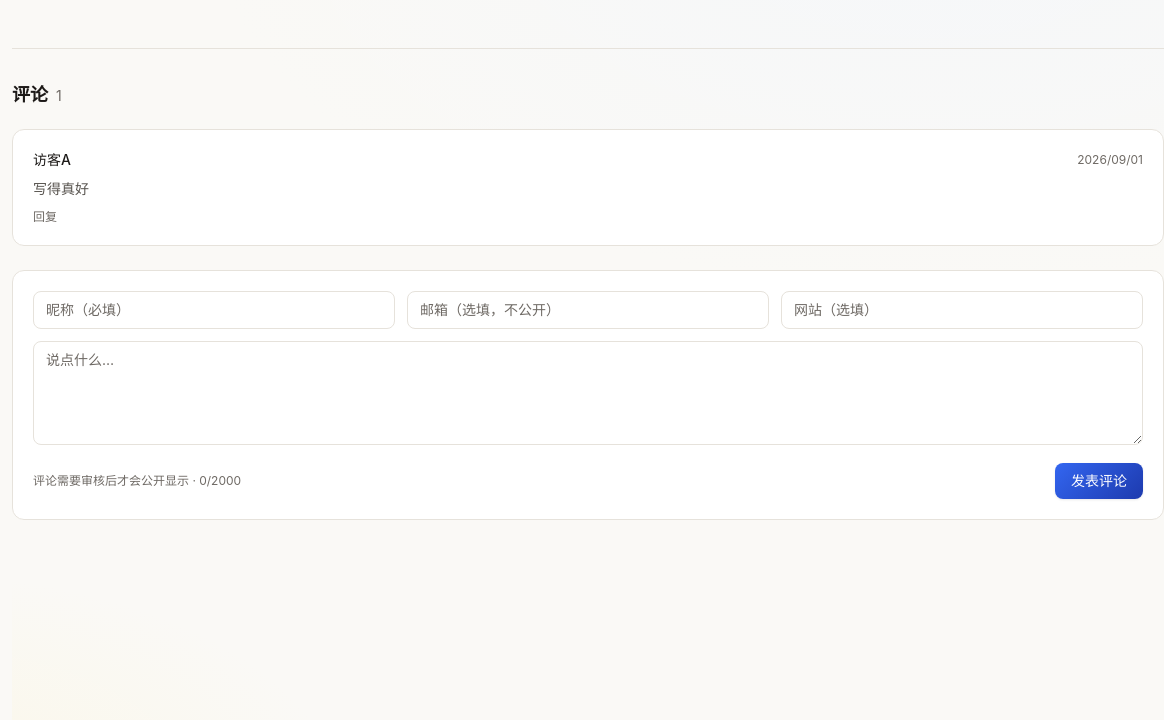
Test: CommentSection · 提交数据清洗 › 回复带上 parent_id，并在成功后复位
Click the button "回复" at (45, 217), box [33,209,57,225]
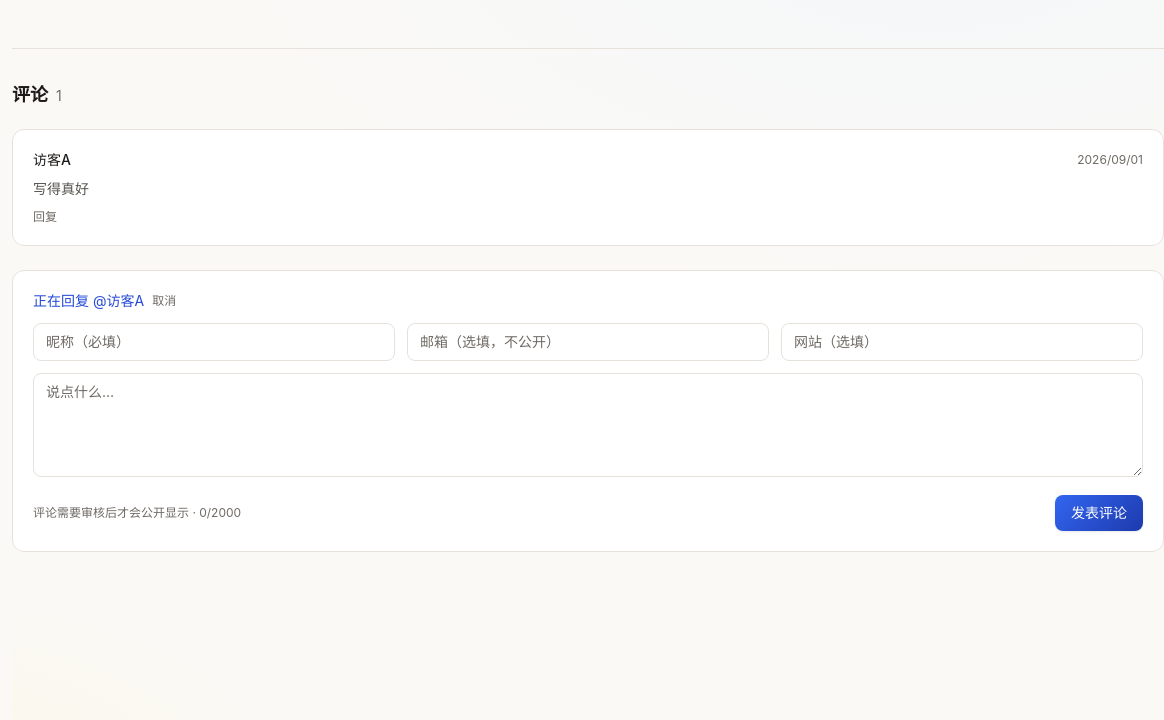
Expected: the text "正在回复 @访客A" is shown, [33,292,144,309]
// 游客身份，昵称仍是必填（回不回复都一样）
Type "路人" into the field named "昵称（必填）" at (214, 342), box [33,323,395,361]
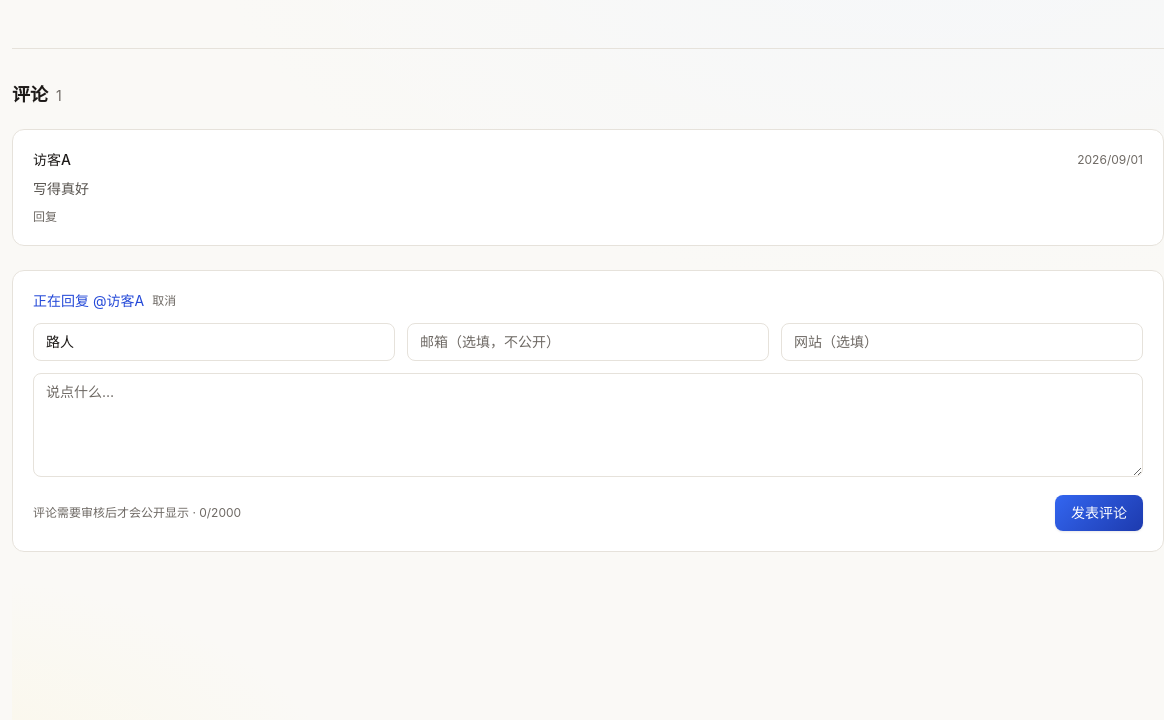
Type "回你一句" into the text box with placeholder "说点什么…" at (588, 425), box [33,373,1143,477]
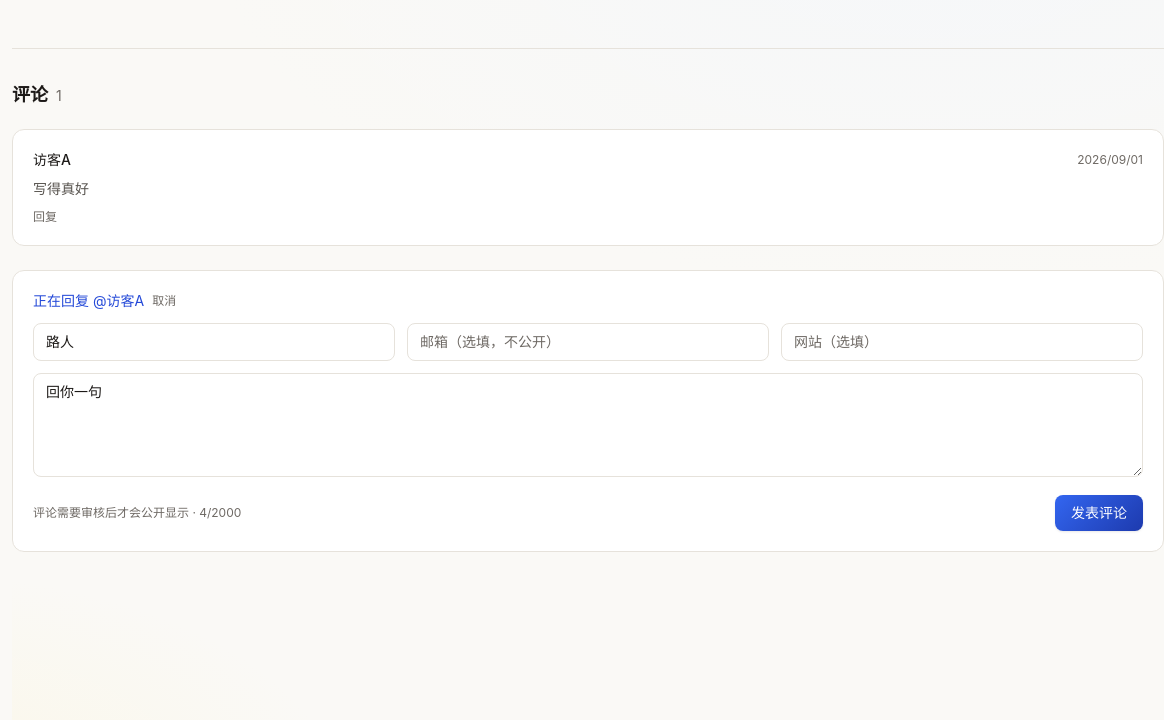
Click the button with class "btn--primary" at (1099, 513), box [1055,495,1143,531]
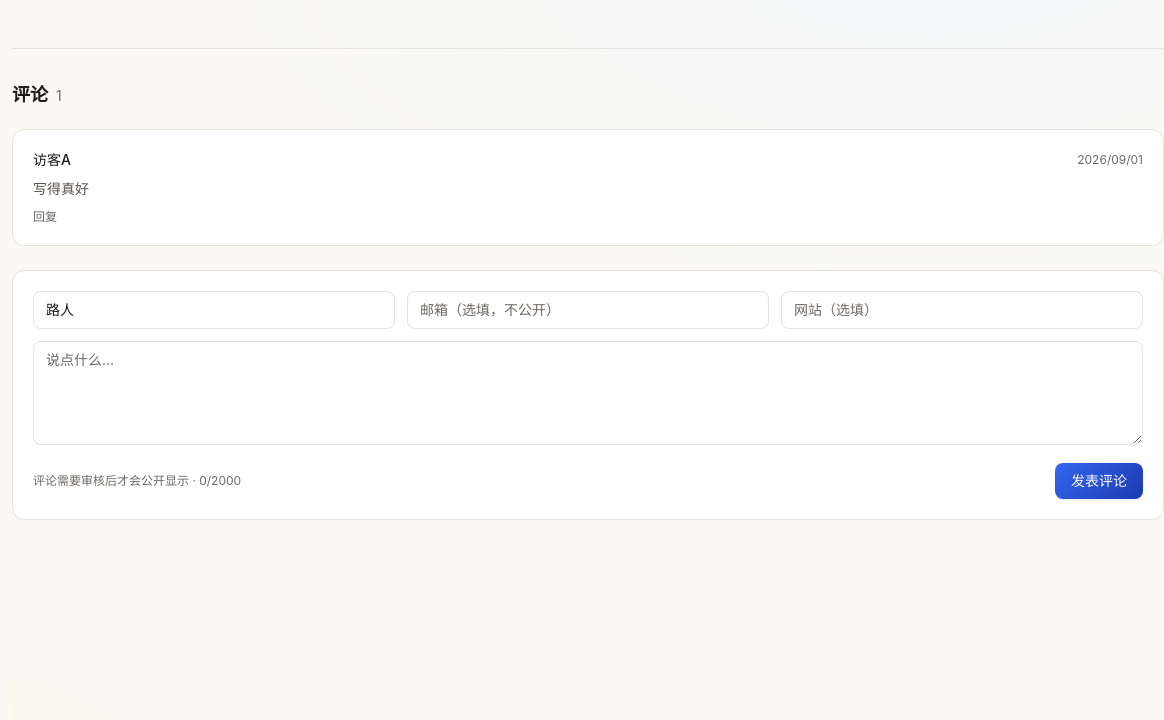
Expected: the text "正在回复 @" is gone
